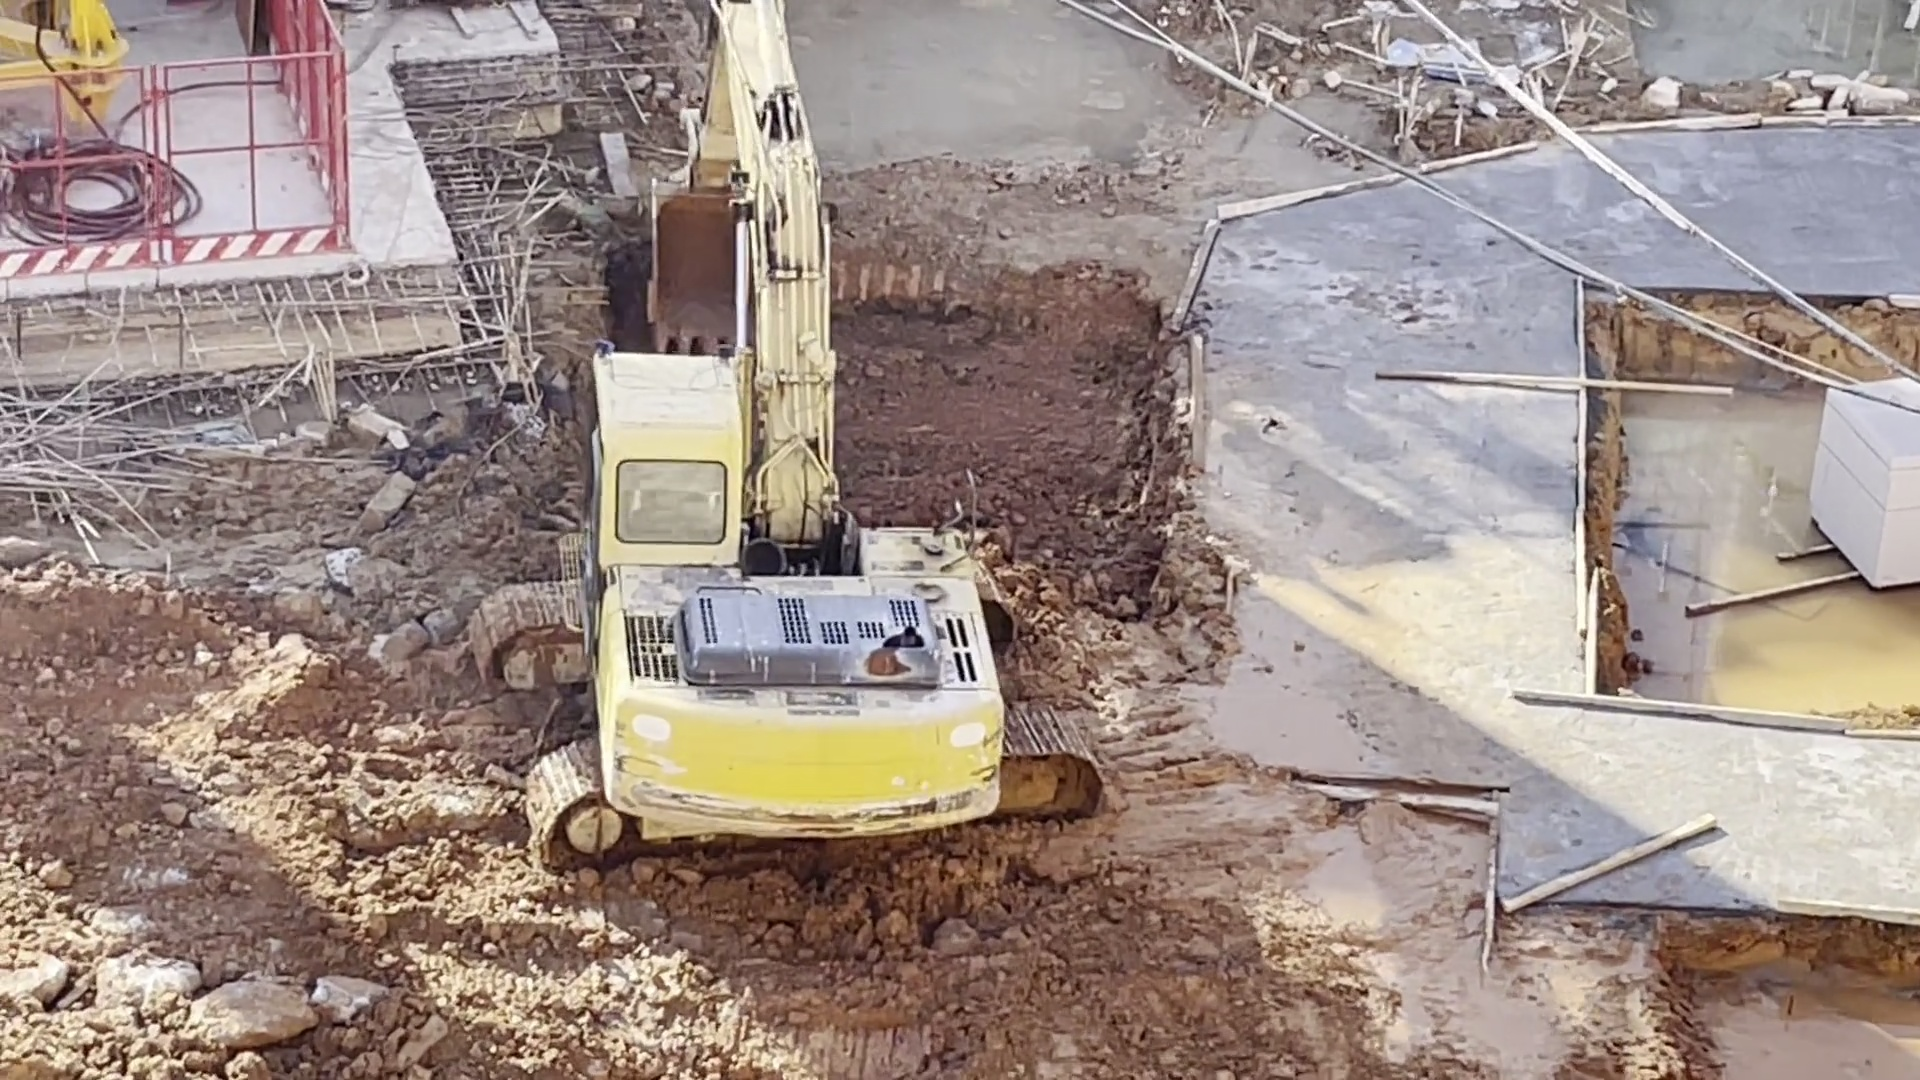brick: (1795, 386, 1920, 592)
fence: (3, 50, 349, 265), (270, 4, 352, 261)
